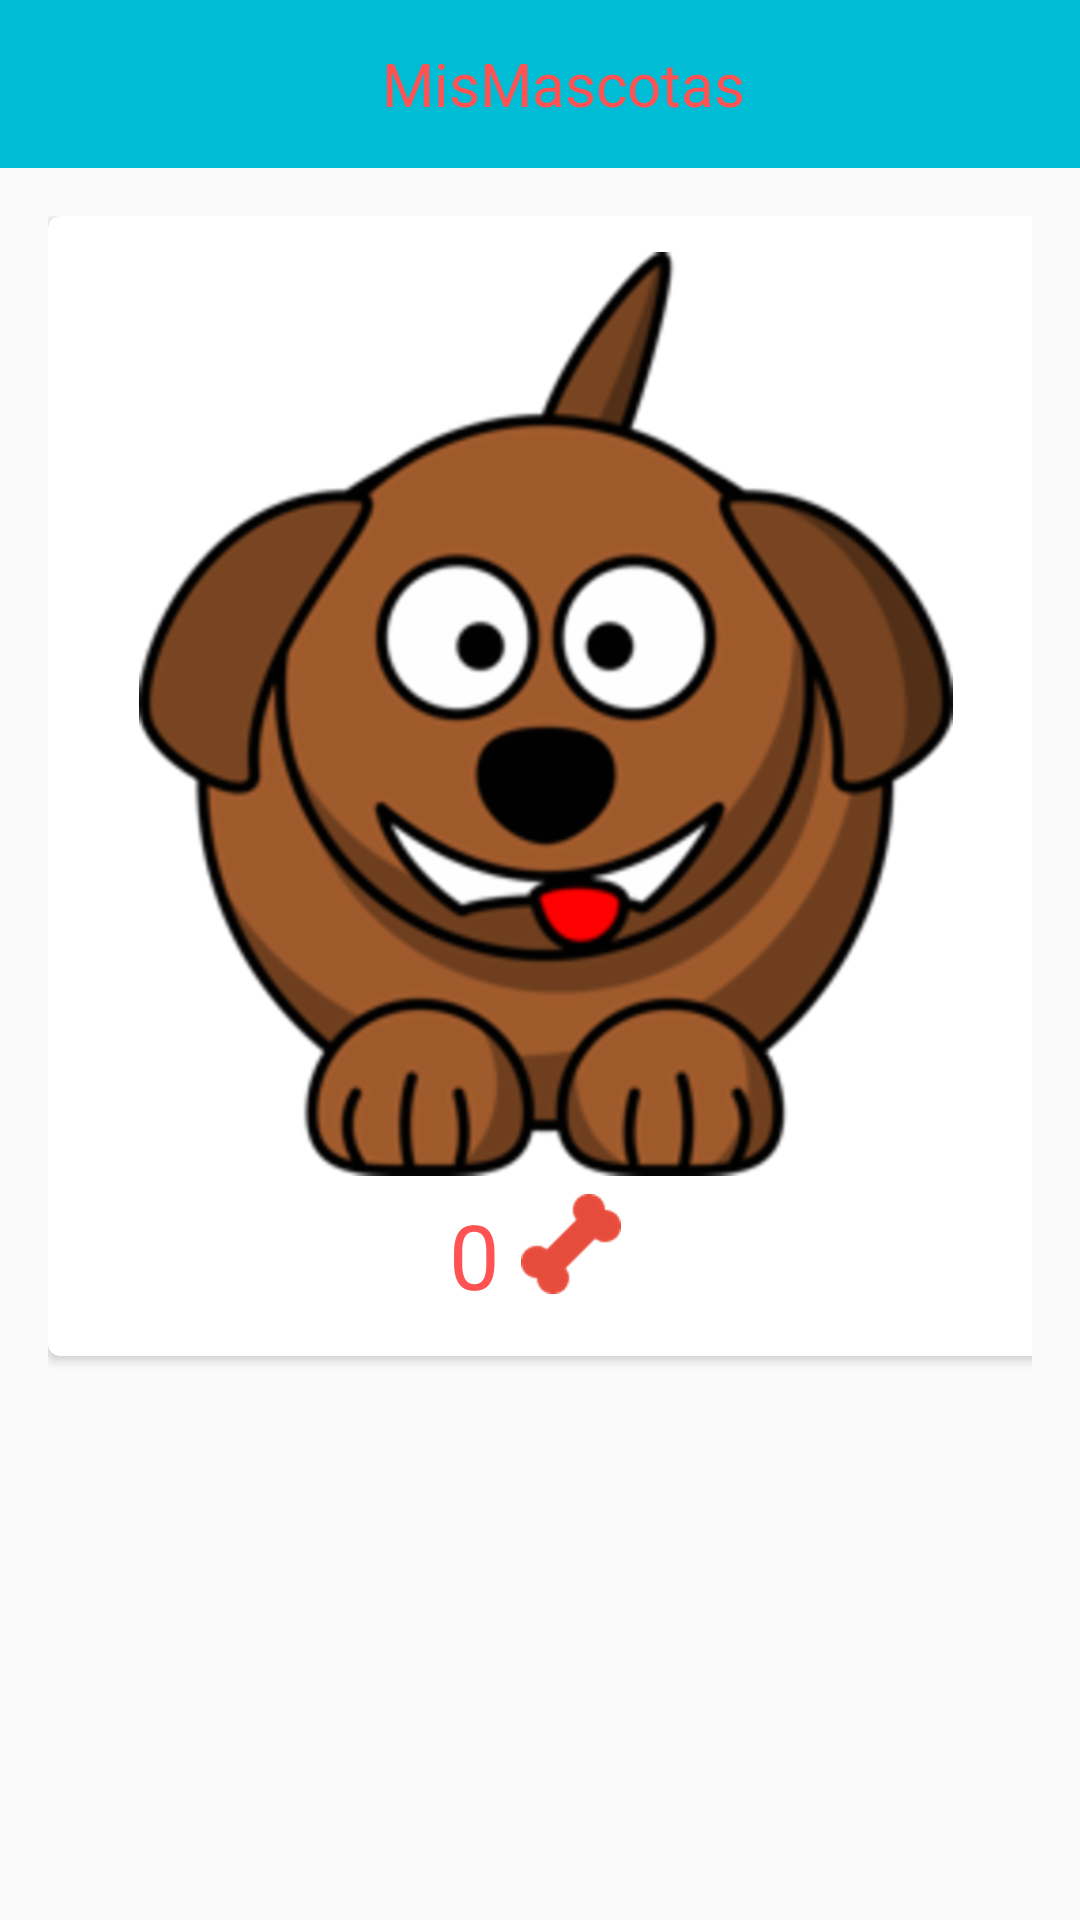

Where icons sit on this 1080 x 1920 app screen, as (x1, y1, x2, y2):
hueso: (521, 1194, 621, 1294)
